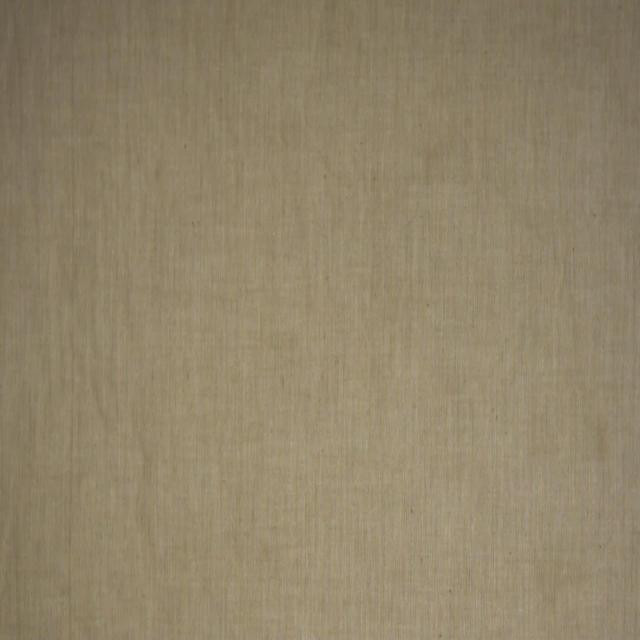dirty: (594, 408, 606, 456)
